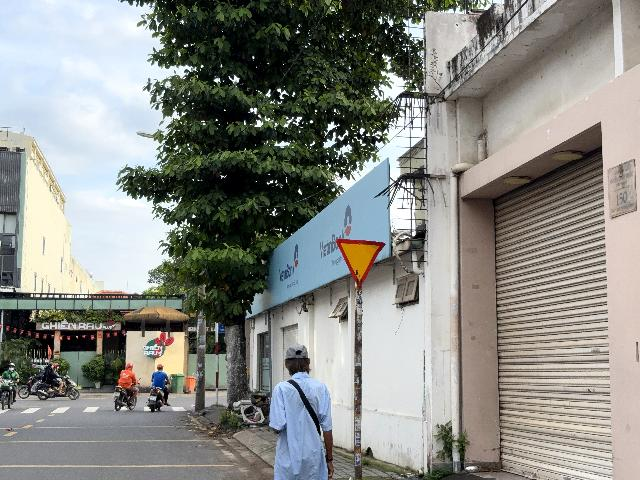giao-nhau-voi-duong-uu-tien: (336, 238, 386, 288)
